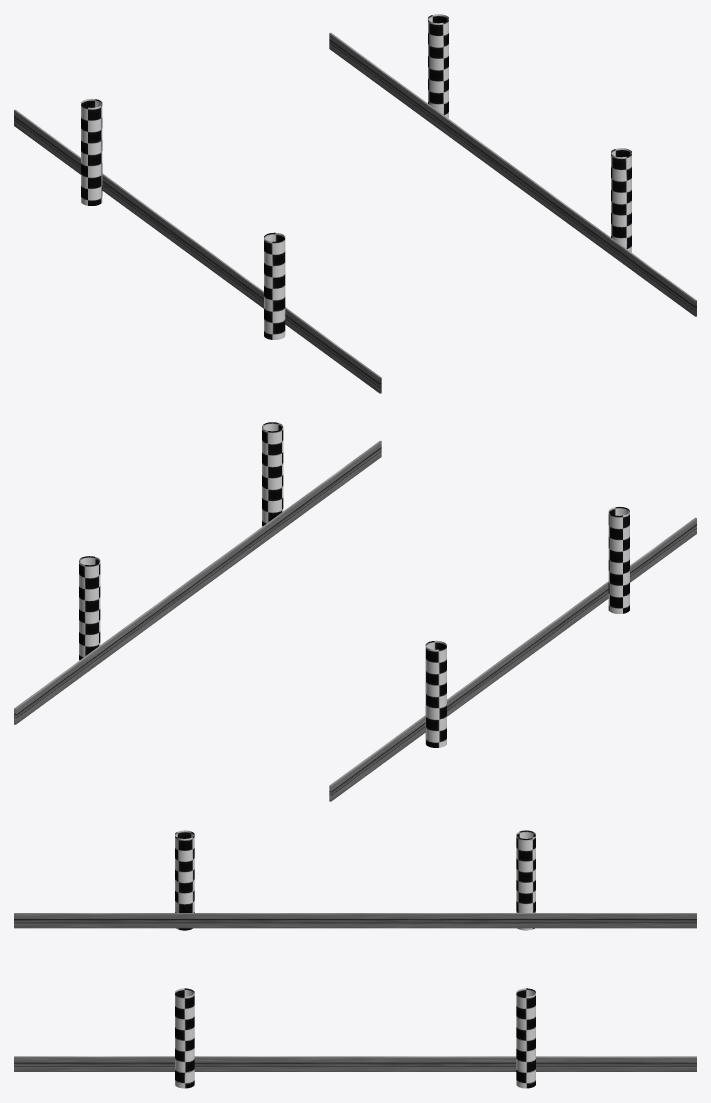
Rendered from guard.FBX.
3 views of the same model, one above another, from view 1: azimuth 30°, elevation 25°; view 2: azimuth 150°, elevation 25°; view 3: azimuth 270°, elevation 25° (orthographic). The views are drawn at different scales.
Parts seen in each view (by area): view 1: Object003; view 2: Object003; view 3: Object003.
Part boxes in pixels (x1,y1,x2,y2): Object003: (14,14,696,393); Object003: (14,422,696,801); Object003: (14,830,696,1088).
Bounding box in the file's own units: 2306 × 592 × 4000.
